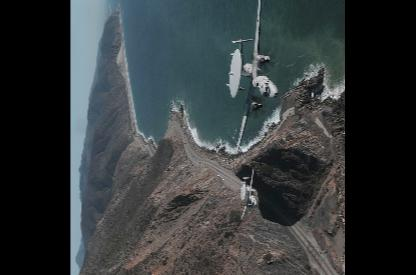C5: (226, 0, 279, 153), (240, 169, 258, 218)
